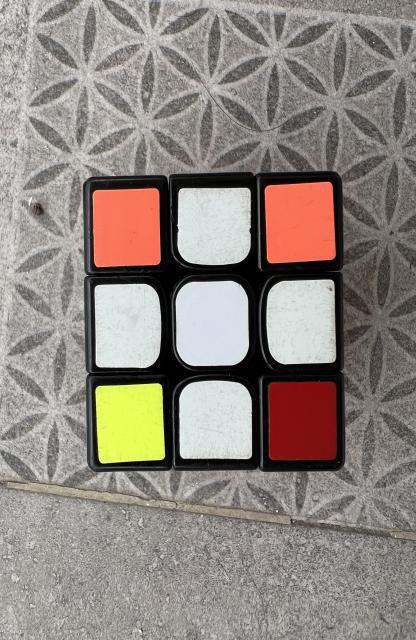Orange: (264, 181, 336, 264), (92, 189, 160, 268)
Red: (269, 381, 337, 460)
White: (176, 281, 249, 366), (266, 279, 337, 364), (179, 380, 252, 459), (94, 284, 161, 368), (178, 188, 251, 265)
Yellow: (95, 382, 165, 464)
